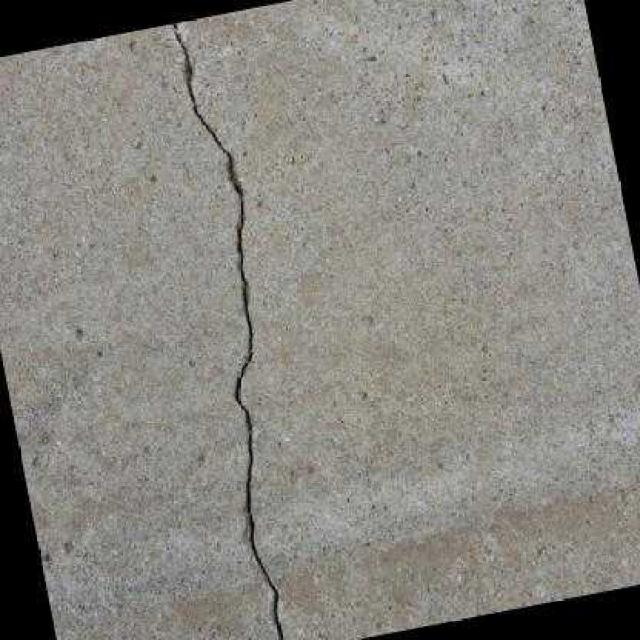D00: (171, 22, 284, 640)
